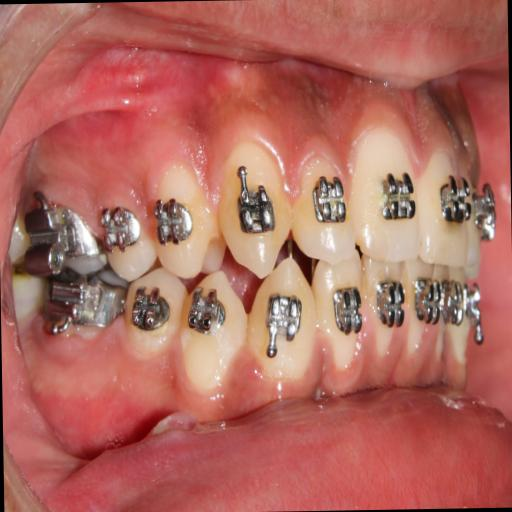correct_brace: (180, 266, 252, 404), (150, 148, 215, 282), (258, 290, 309, 362), (232, 162, 278, 240), (184, 283, 228, 337), (377, 168, 418, 224), (310, 174, 348, 226)
incorrect_brace: (290, 142, 352, 264), (153, 192, 196, 246)
